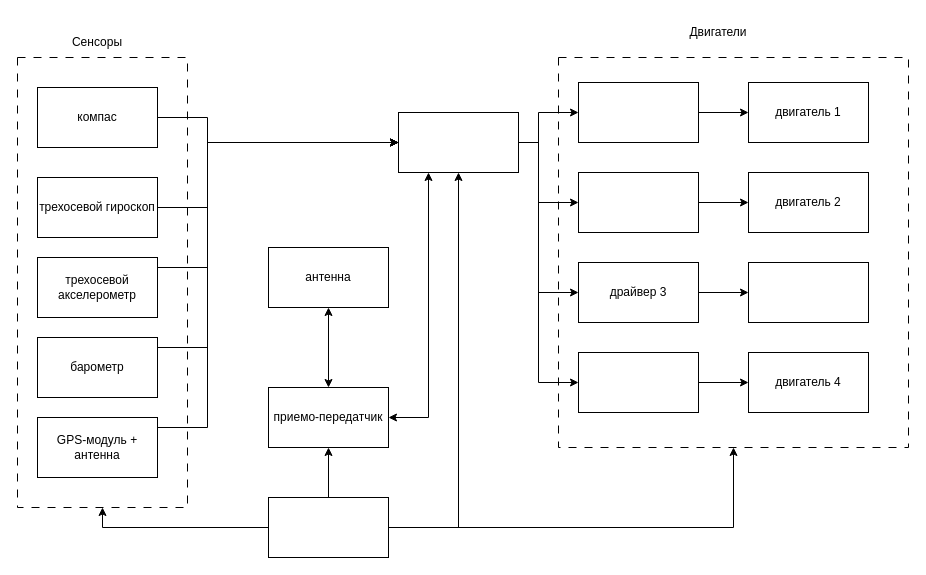
Image size: 926x575. Some labels were removed from this diagram. Here are the shapes that lost their labels. From the top down, the centre of each, then its label:
At pixel 638 112: "драйвер 1".
At pixel 458 142: "бортовая система управления".
At pixel 638 202: "драйвер 2".
At pixel 808 292: "двигатель 3".
At pixel 638 382: "драйвер 4".
At pixel 328 527: "блок питания".
